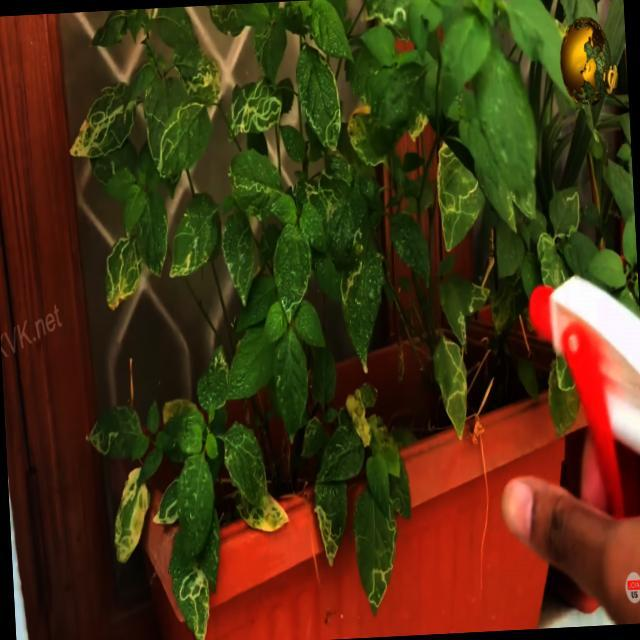Tomato healthy leaf: (586, 248, 627, 290)
Tomato target spot leaf: (472, 42, 542, 224), (336, 218, 390, 374), (458, 114, 518, 238), (352, 484, 402, 615), (142, 75, 192, 202), (433, 139, 487, 252), (64, 80, 140, 160), (294, 43, 342, 152), (166, 190, 220, 278), (270, 222, 316, 324), (156, 100, 214, 180), (222, 418, 270, 511), (430, 336, 471, 442), (226, 146, 286, 218), (111, 466, 155, 562), (226, 75, 284, 142), (82, 402, 144, 464), (172, 34, 222, 107), (221, 208, 257, 308), (311, 478, 351, 566), (102, 232, 144, 312), (134, 190, 172, 278), (291, 171, 344, 232), (545, 353, 582, 440), (172, 561, 212, 640), (488, 272, 530, 337), (252, 18, 290, 89), (346, 104, 387, 169), (194, 344, 232, 412), (234, 488, 290, 534), (438, 279, 468, 355), (536, 232, 572, 291), (546, 184, 582, 240), (387, 454, 413, 523), (150, 472, 182, 526), (363, 0, 408, 35), (206, 3, 246, 38), (463, 274, 492, 318), (299, 413, 326, 459), (406, 103, 431, 144)
